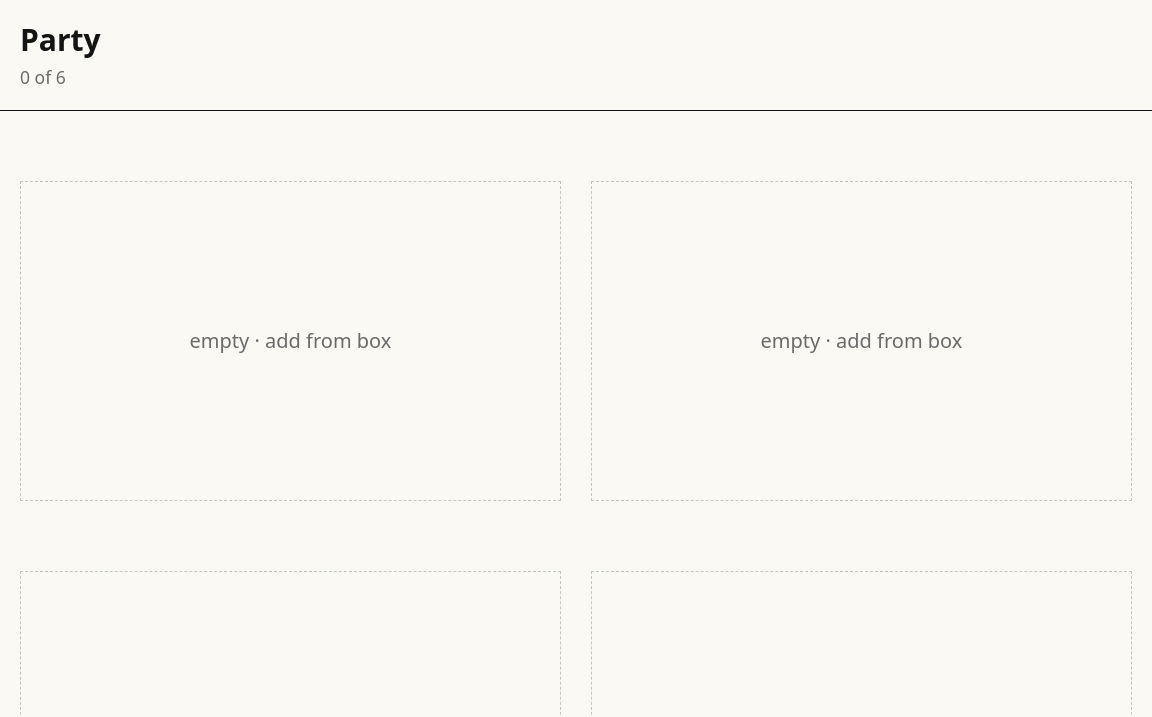
Test: PartyScreen › adding from the box › says so and keeps the dialog open when saving fails
Click the 1st button "empty · add from box".
click(290, 341)  # box [20,181,561,501]
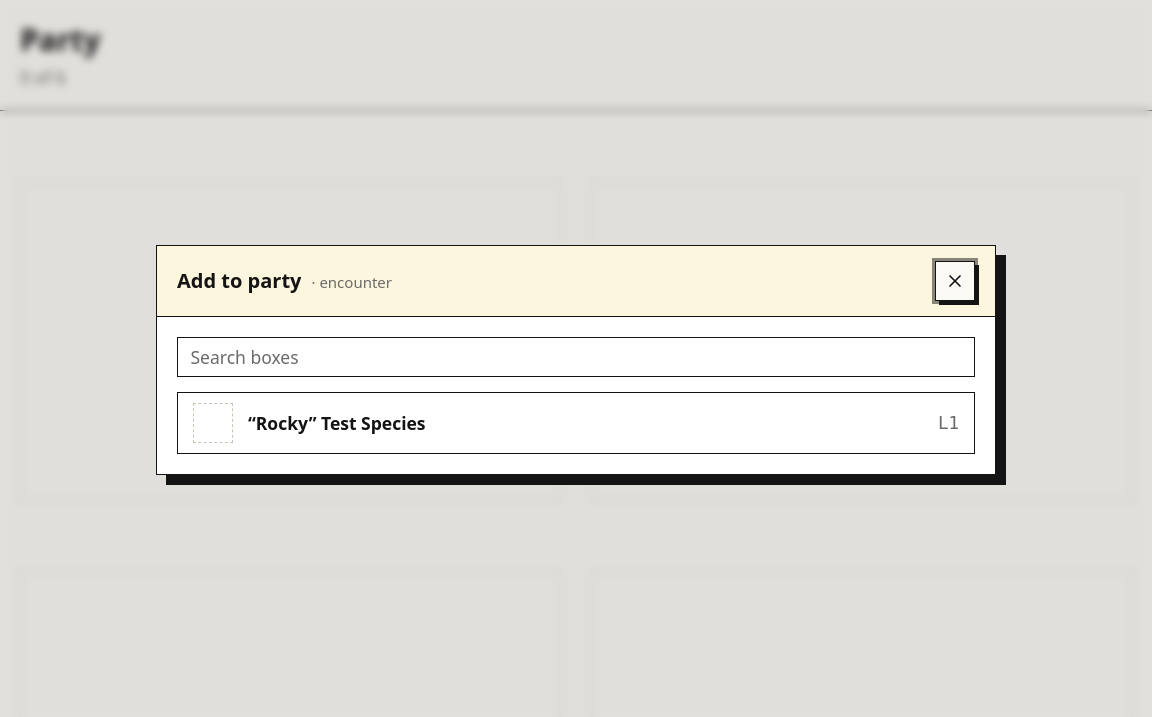
Click the button with aria-label "Add “Rocky” to the party".
click(213, 423)  # box [177,392,975,454]
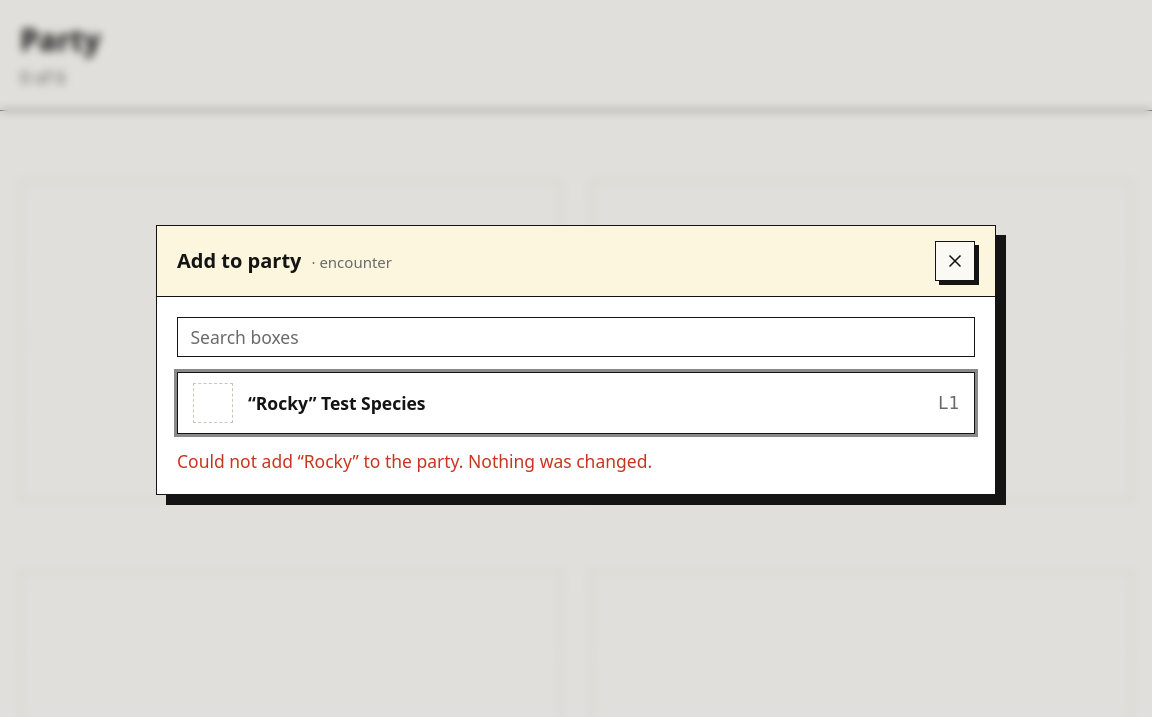
Expected: the dialog "Add to party" is shown, [156,225,996,495]
Expected: the message reads "Could not add “Rocky” to the party. Nothing was changed.", [177,449,652,473]
